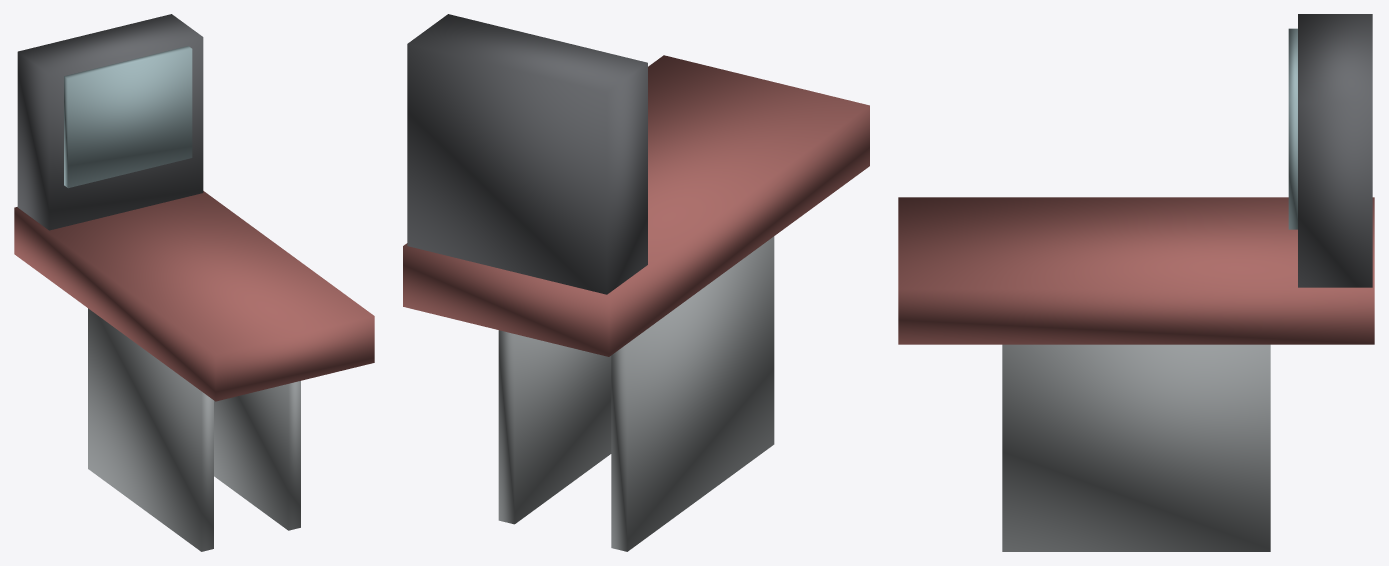
The model's file is pinball_machine__deep.glb.
The picture shows the model from 3 angles, left to right: view 1: azimuth 30°, elevation 25°; view 2: azimuth 150°, elevation 25°; view 3: azimuth 270°, elevation 25°; orthographic projection. The views are drawn at different scales.
Parts seen in each view (by area): view 1: world; view 2: world; view 3: world.
Part boxes in pixels (bbox=[...]): world: bbox=[14, 14, 374, 551]; world: bbox=[403, 14, 869, 551]; world: bbox=[898, 14, 1374, 551].
Size of the model in its own units: 0.64 by 1.51 by 1.4.
